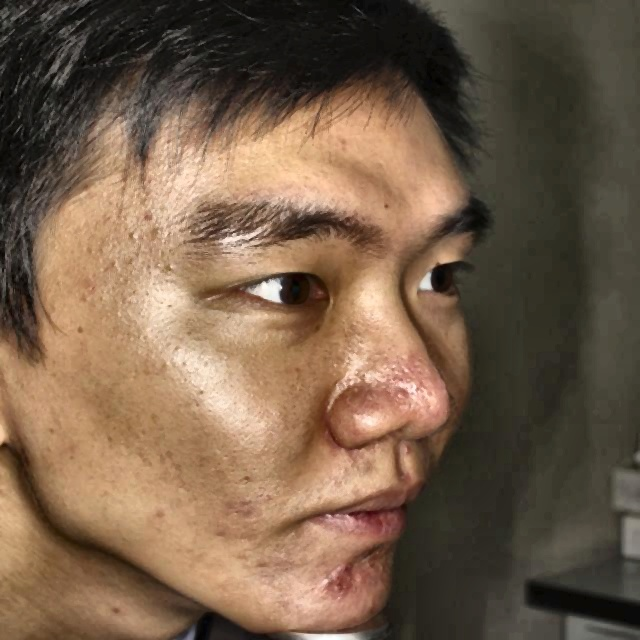comedone: (317, 562, 358, 602), (398, 441, 417, 458)
